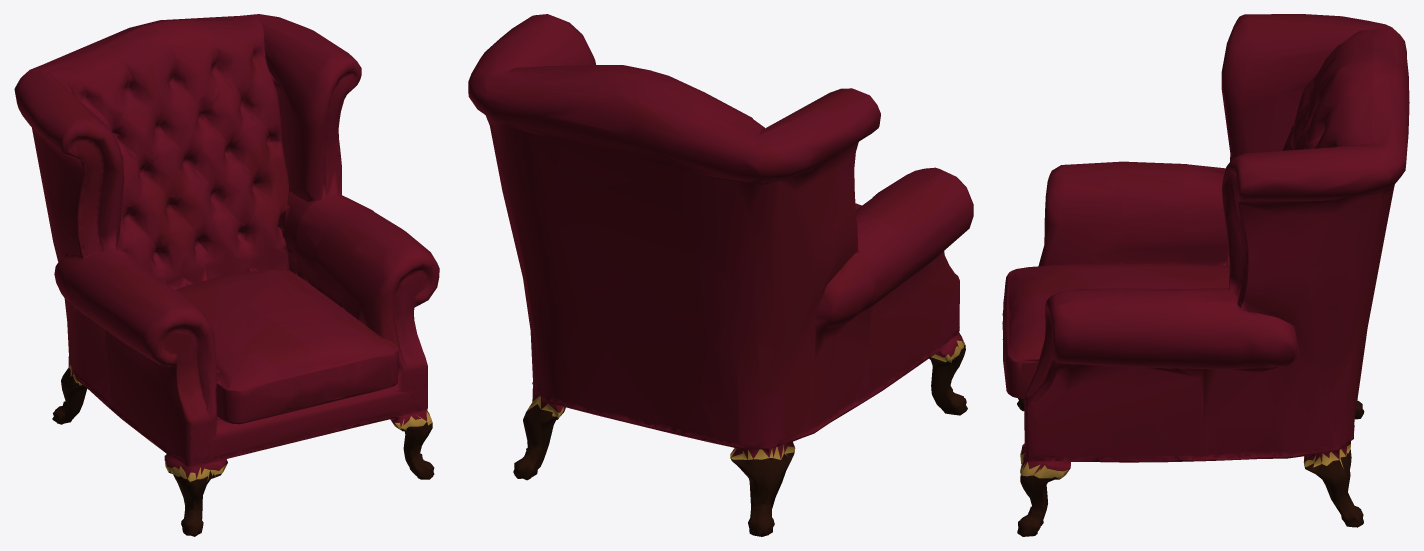
File: x_lo_chair.glb
3 renders of one model, left to right at view 1: azimuth 30°, elevation 25°; view 2: azimuth 150°, elevation 25°; view 3: azimuth 270°, elevation 25°, orthographic. The views are drawn at different scales.
Visible parts, largest first — view 1: Mesh; view 2: Mesh; view 3: Mesh.
Part boxes in pixels (x1,y1,x2,y2): Mesh: (14, 14, 439, 536); Mesh: (468, 14, 973, 536); Mesh: (1002, 14, 1409, 536).
Bounding box in the file's own units: 1.64 × 1.9 × 1.72.
